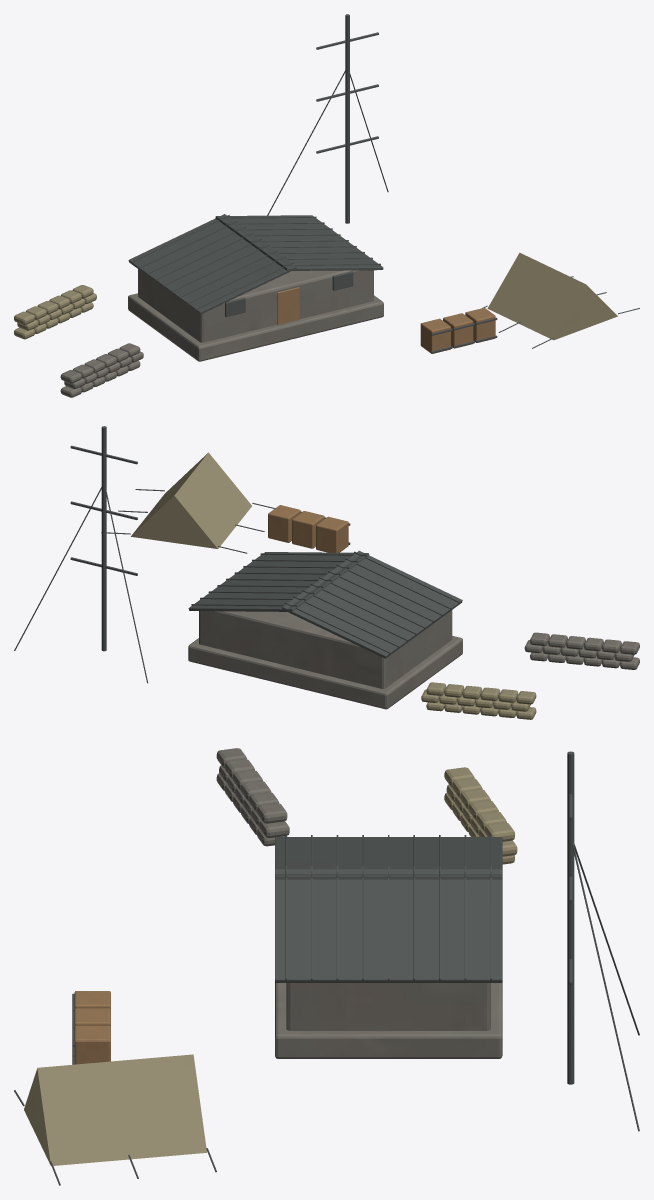
File: raven-lod0.glb
3 views of the same model, one above another, from view 1: azimuth 30°, elevation 25°; view 2: azimuth 150°, elevation 25°; view 3: azimuth 270°, elevation 25° (orthographic). The views are drawn at different scales.
Visible parts, largest first — view 1: raven_bunker_0, raven_small_tent_4, raven_crate_stack_5, raven_breastwork_2, raven_sandbags_3, raven_mast_1; view 2: raven_bunker_0, raven_small_tent_4, raven_breastwork_2, raven_sandbags_3, raven_crate_stack_5, raven_mast_1; view 3: raven_bunker_0, raven_small_tent_4, raven_mast_1, raven_breastwork_2, raven_sandbags_3, raven_crate_stack_5.
Boxes of the visible parts, left/top/right/bottom form: raven_bunker_0: left=128, top=214, right=383, bottom=361; raven_small_tent_4: left=482, top=252, right=639, bottom=348; raven_crate_stack_5: left=420, top=308, right=497, bottom=353; raven_breastwork_2: left=60, top=343, right=143, bottom=397; raven_sandbags_3: left=14, top=285, right=96, bottom=339; raven_mast_1: left=267, top=14, right=388, bottom=223; raven_bunker_0: left=188, top=550, right=462, bottom=709; raven_small_tent_4: left=101, top=452, right=275, bottom=553; raven_breastwork_2: left=524, top=632, right=639, bottom=669; raven_sandbags_3: left=421, top=682, right=536, bottom=719; raven_crate_stack_5: left=268, top=505, right=350, bottom=552; raven_mast_1: left=14, top=426, right=148, bottom=683; raven_bunker_0: left=275, top=835, right=502, bottom=1058; raven_small_tent_4: left=14, top=1054, right=216, bottom=1185; raven_mast_1: left=567, top=751, right=639, bottom=1131; raven_breastwork_2: left=216, top=748, right=289, bottom=846; raven_sandbags_3: left=444, top=767, right=517, bottom=864; raven_crate_stack_5: left=72, top=991, right=110, bottom=1064.
Size of the model in its own units: 42.14 by 17 by 27.5.
Materials: 4 (4 with a texture image).
